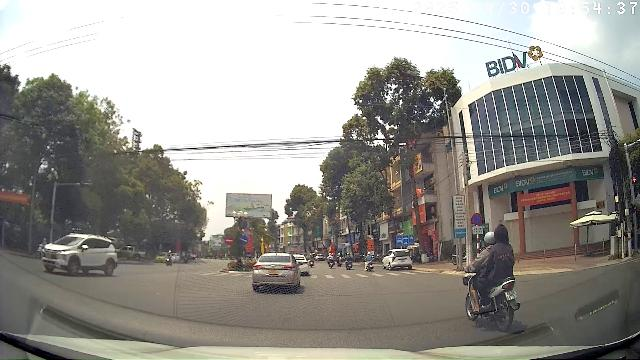102-cam-di-nguoc-chieu: (225, 236, 234, 245)
130-cam-dung-va-do-xe: (471, 212, 483, 225)
302a-huong-phai-di-vong-chuong-ngai-vat-1: (238, 235, 248, 245)
